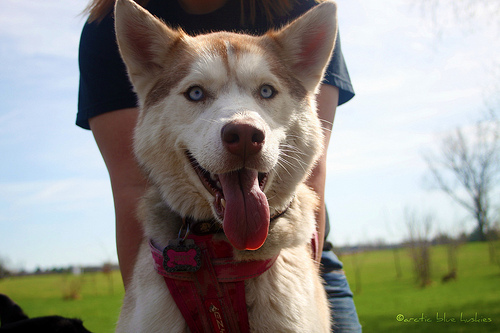dog: (114, 0, 337, 332)
